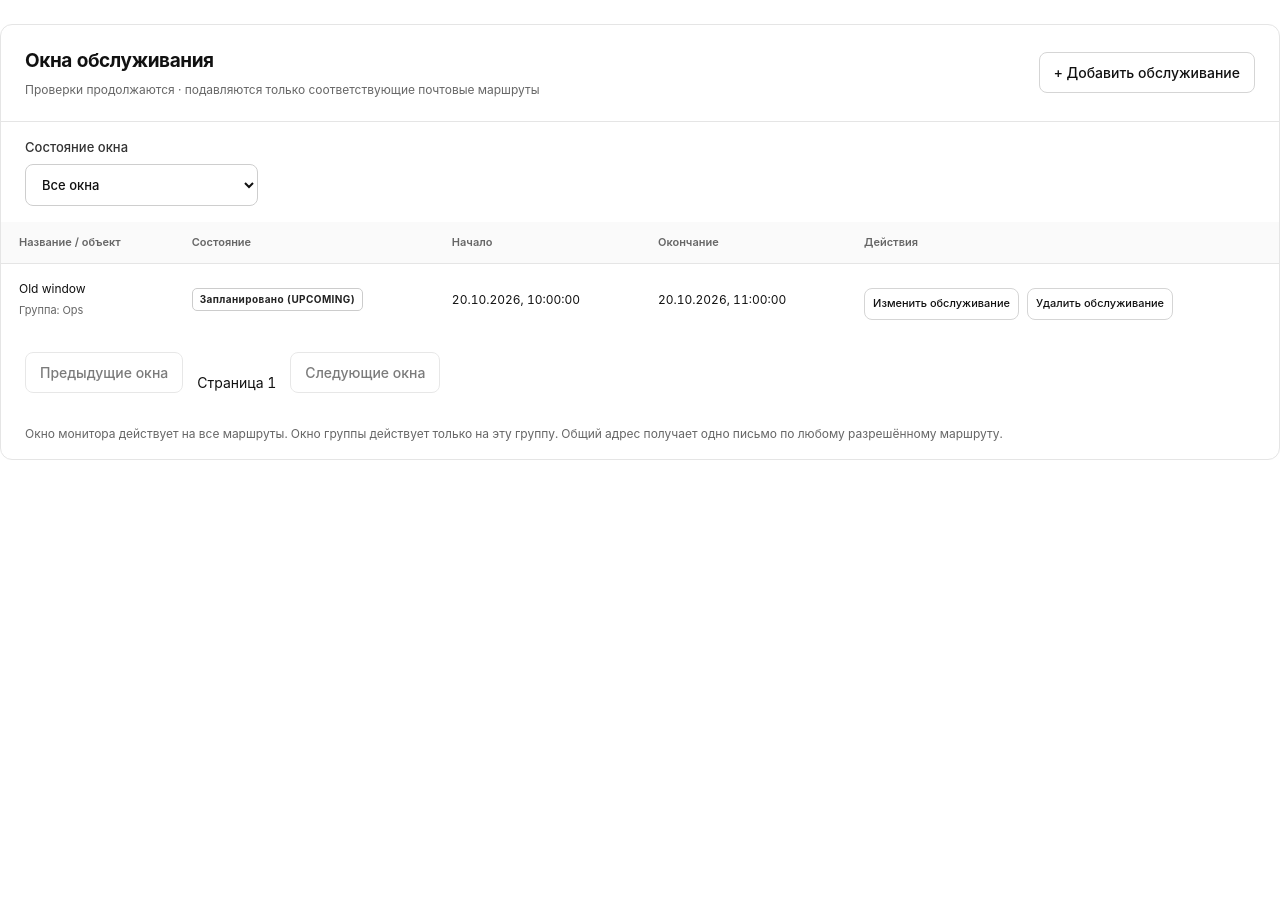
Test case: preserves an edit draft on a version conflict
Check: the text "Old window" is shown, box [19,281,86,296]
Click the button "Изменить обслуживание". click: (942, 304)
box: [864,288,1019,320]
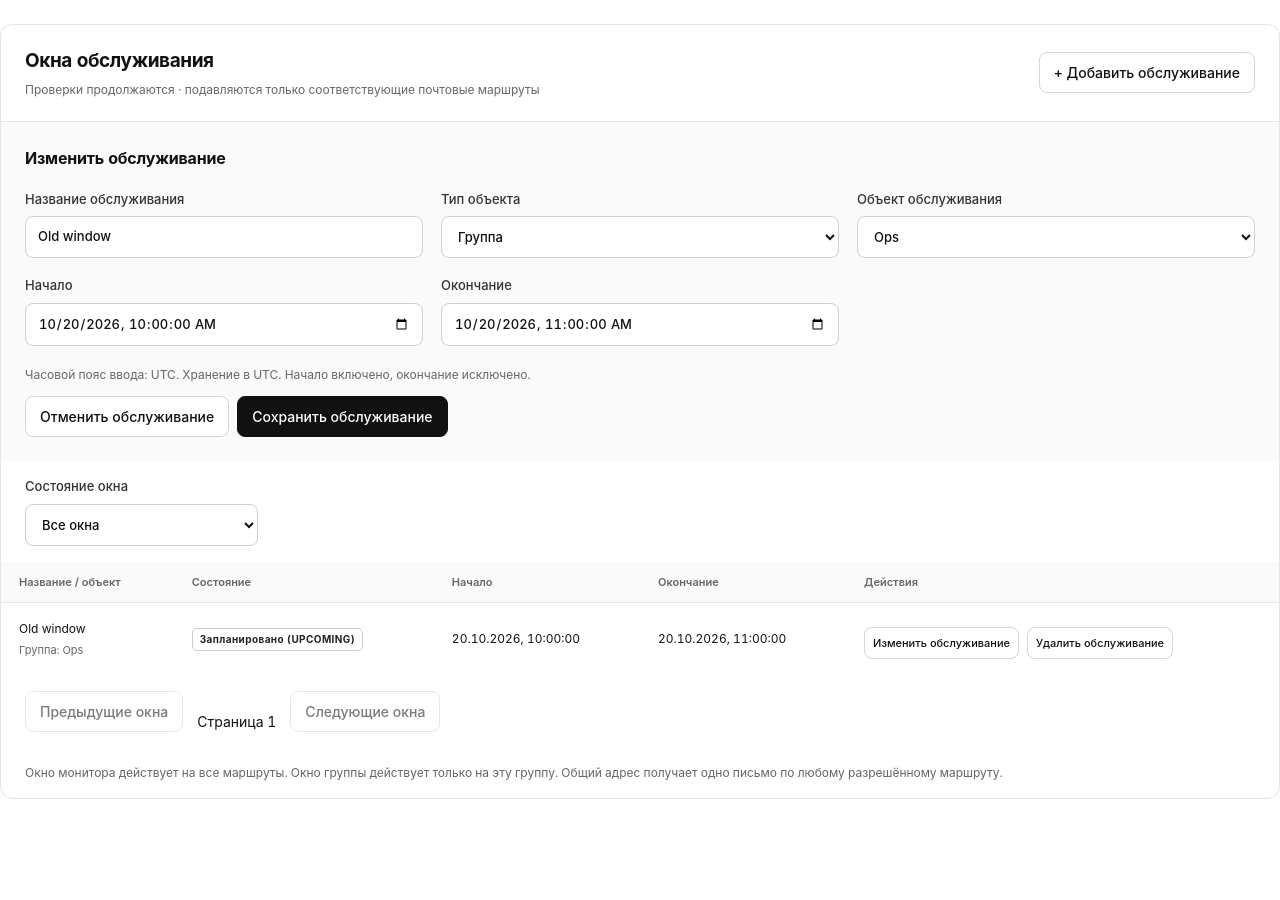
Replace the text in the field labelled "Название обслуживания" with "My draft". click: (224, 237)
box: [25,216,423,258]
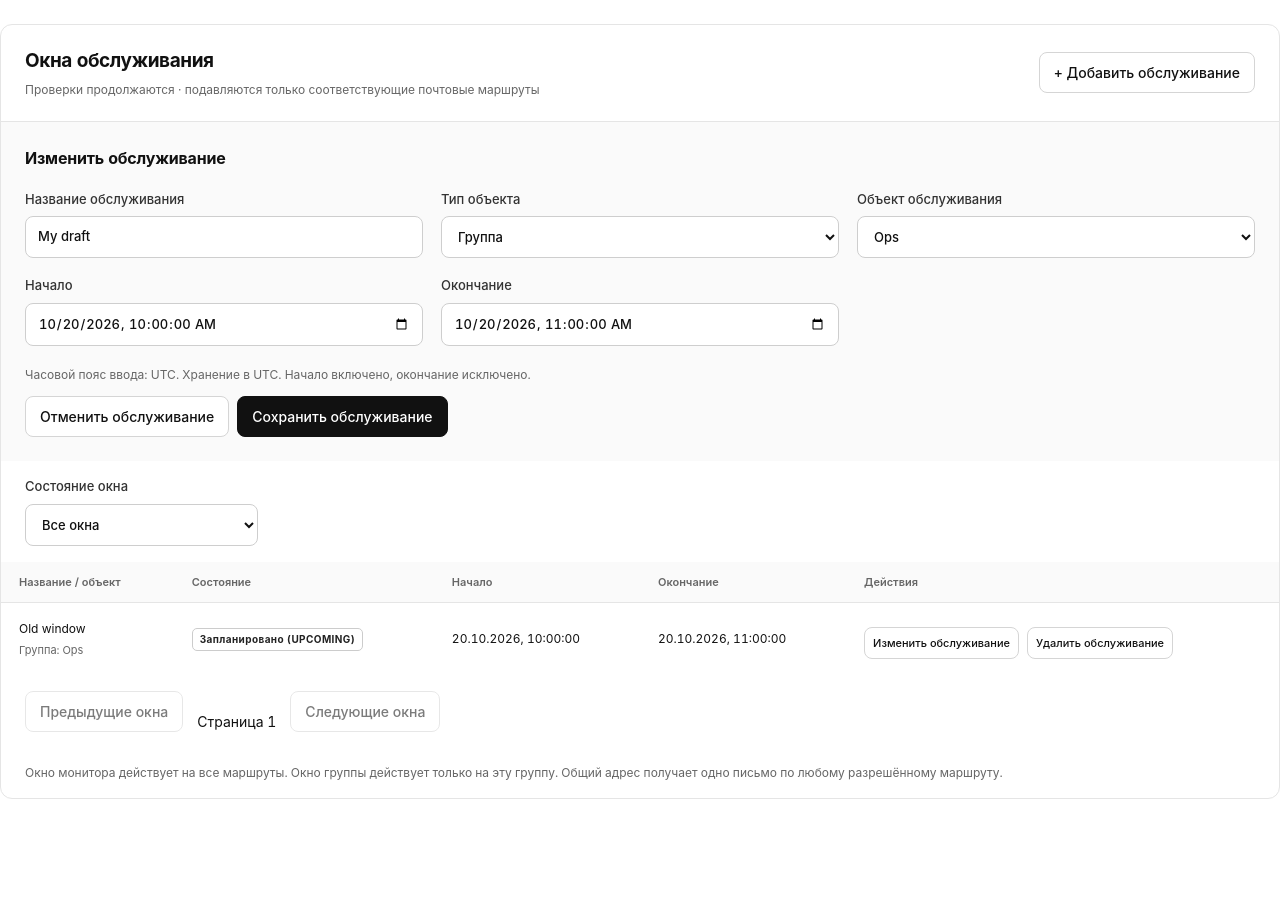
Click the button "Сохранить обслуживание". click: (342, 416)
box: [237,396,448,437]
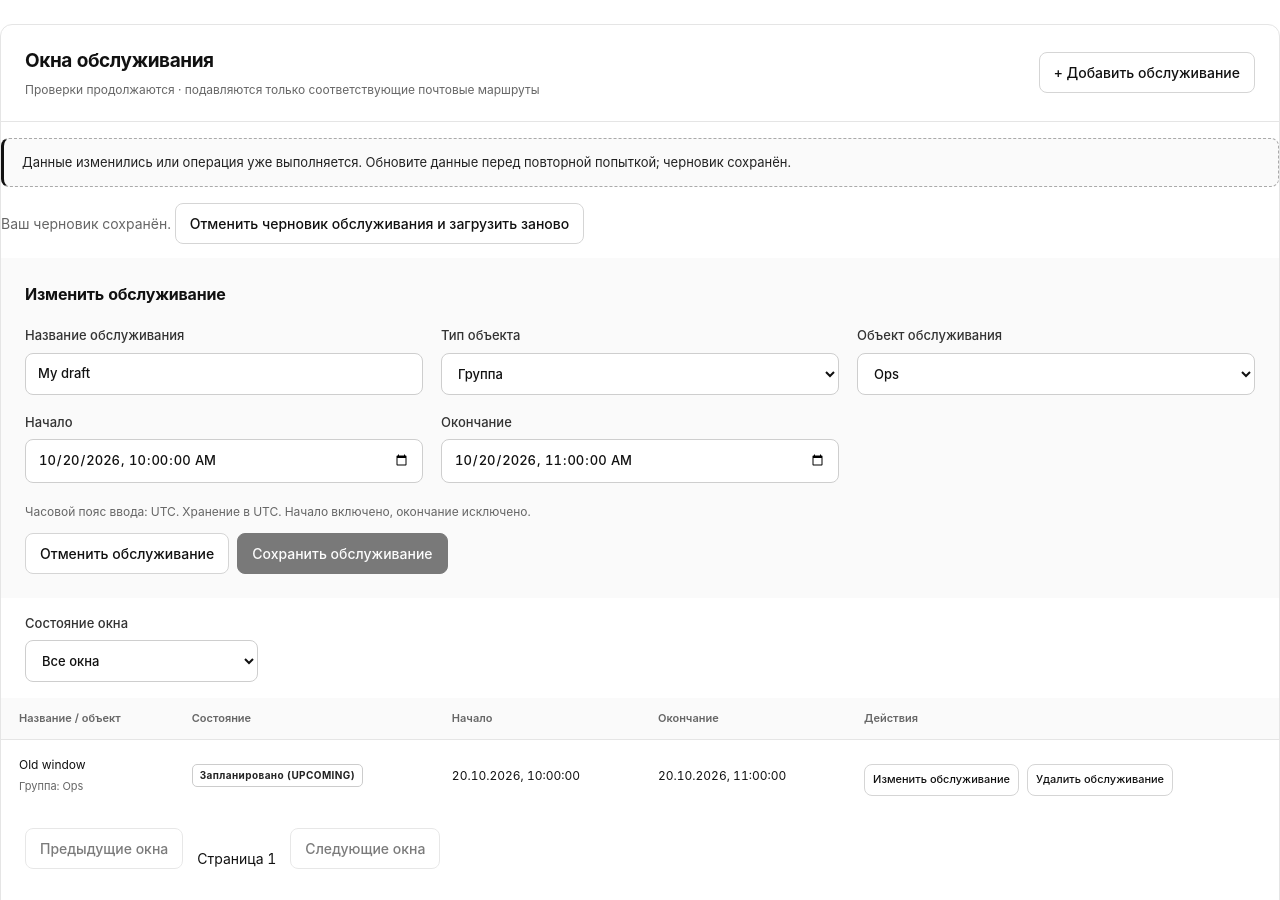
Check: the text "Ваш черновик сохранён" is shown, box [1,215,171,232]
Click the button "Отменить черновик обслуживания и загрузить заново". click: (379, 224)
box: [175,203,584,244]
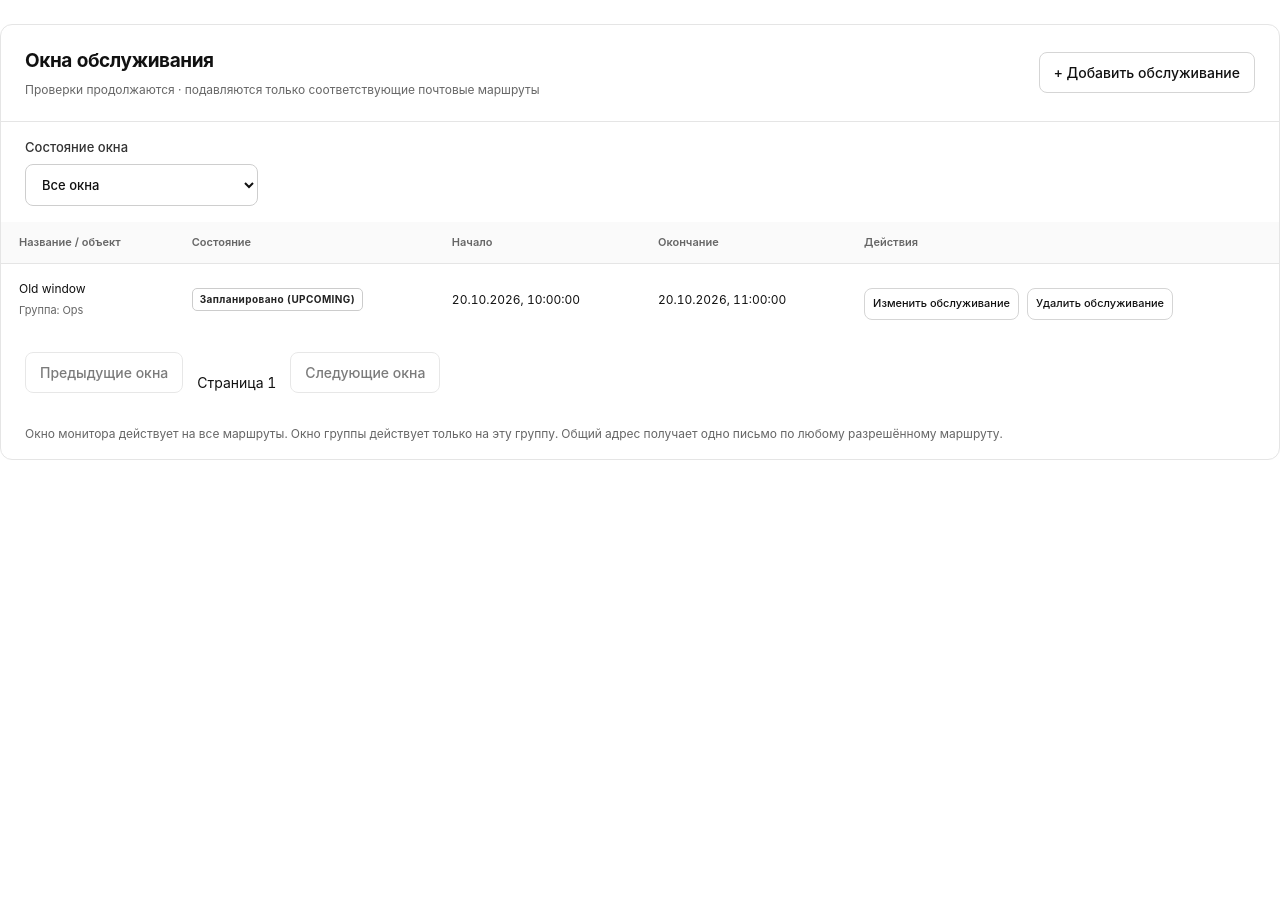
Check: the label labelled "Название обслуживания" is gone
